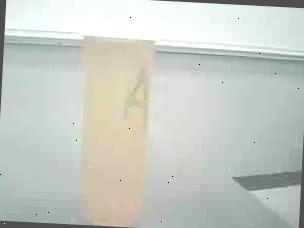Bottle A: (59, 9, 163, 228)
